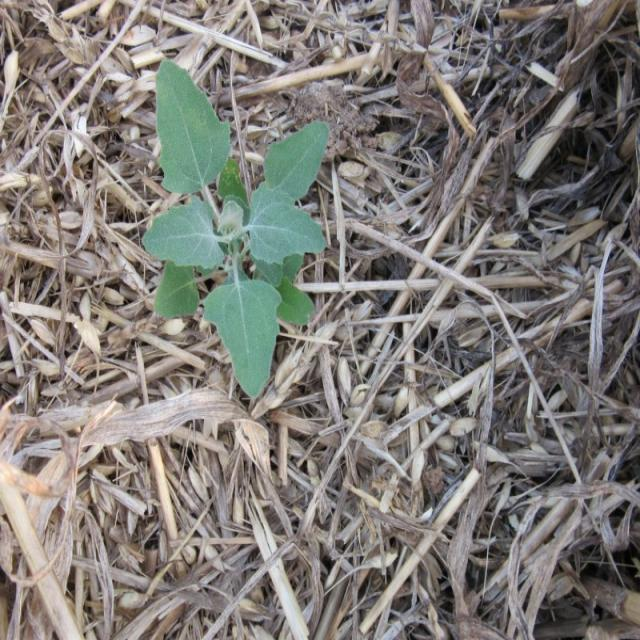ca: (145, 68, 330, 399)
